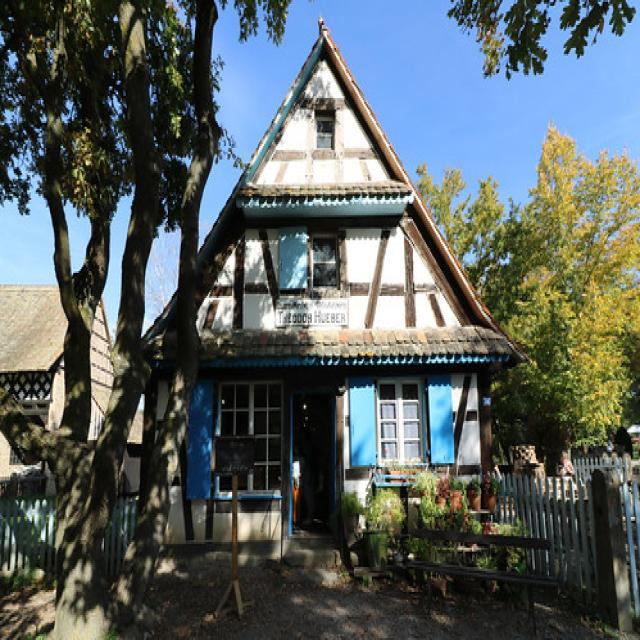building: (146, 21, 525, 579)
